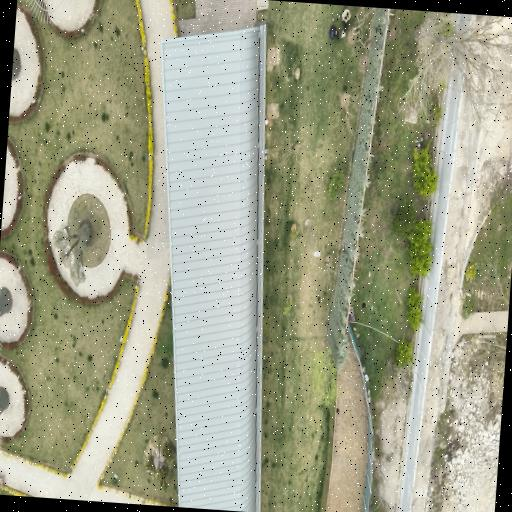person: (341, 8, 350, 34), (329, 25, 338, 39)
